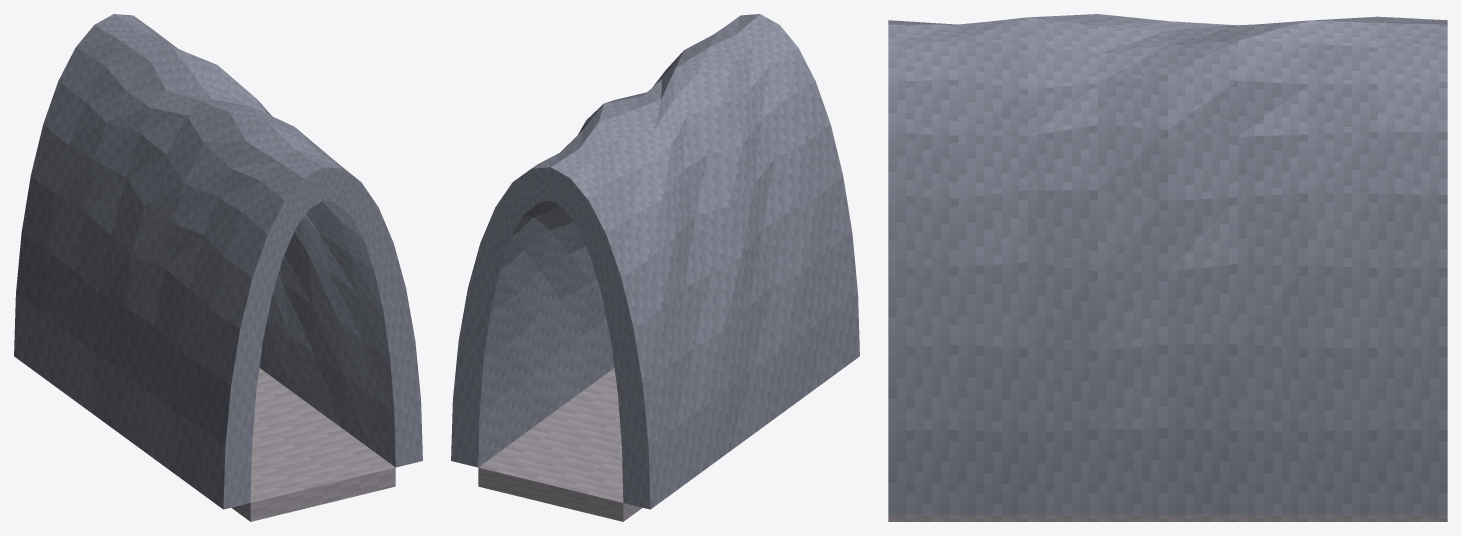
The model's file is cave-and-crystal-networks-narrow-squeeze-537ebb7f.glb.
3 views of the same model, side by side, from view 1: azimuth 30°, elevation 25°; view 2: azimuth 150°, elevation 25°; view 3: azimuth 270°, elevation 25° (orthographic). The views are drawn at different scales.
Parts seen in each view (by area): view 1: narrow-squeeze; view 2: narrow-squeeze; view 3: narrow-squeeze.
Part boxes in pixels (left/top/right/bottom): narrow-squeeze: left=14, top=14, right=422, bottom=521; narrow-squeeze: left=451, top=14, right=859, bottom=521; narrow-squeeze: left=888, top=14, right=1447, bottom=521.
Size of the model in its own units: 2.2 by 3.61 by 4.
2 materials, 2 textured.
